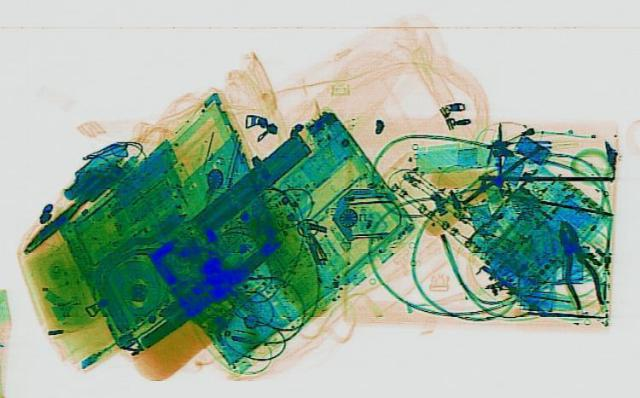Pliers: (544, 217, 606, 306)
